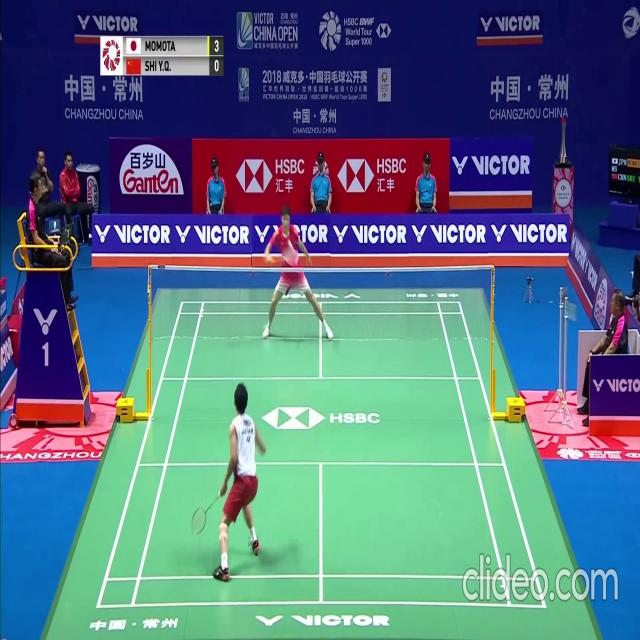Shuttlecock: (287, 239, 291, 246)
